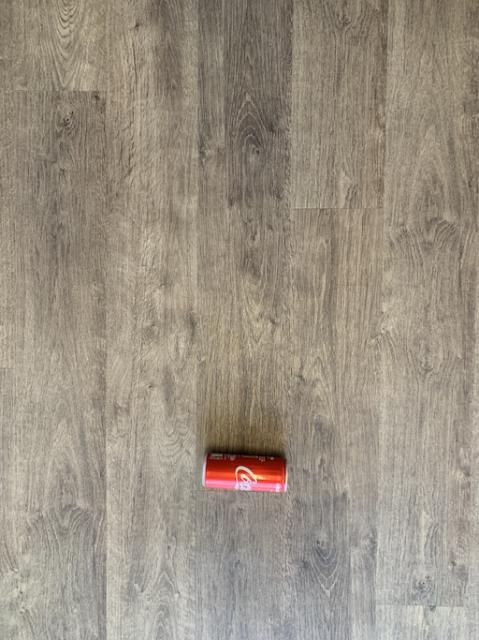metal: (201, 452, 286, 489)
